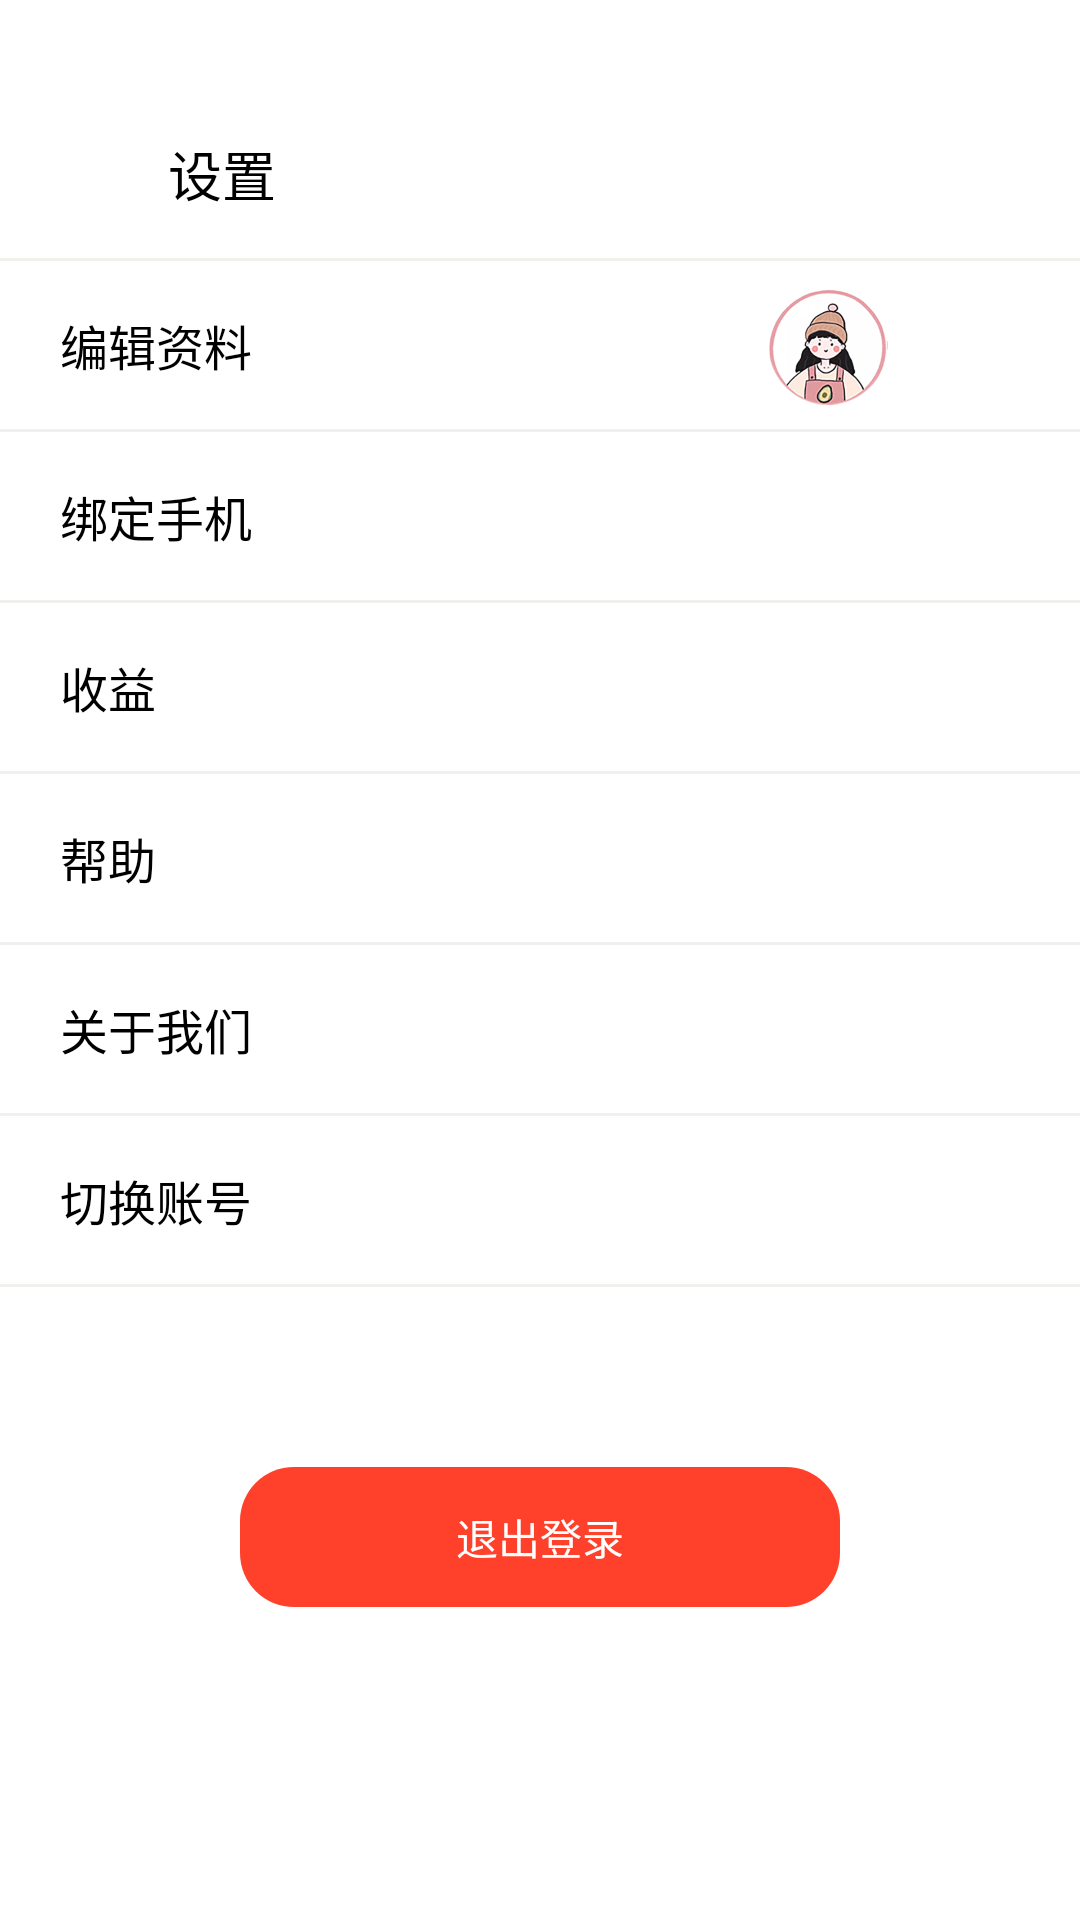

Named icons in this screenshot (1080×1920) and their centers, [x,y]:
head: [828,347]
